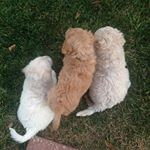puppy: (73, 24, 132, 121), (47, 25, 96, 133), (7, 52, 57, 145)
